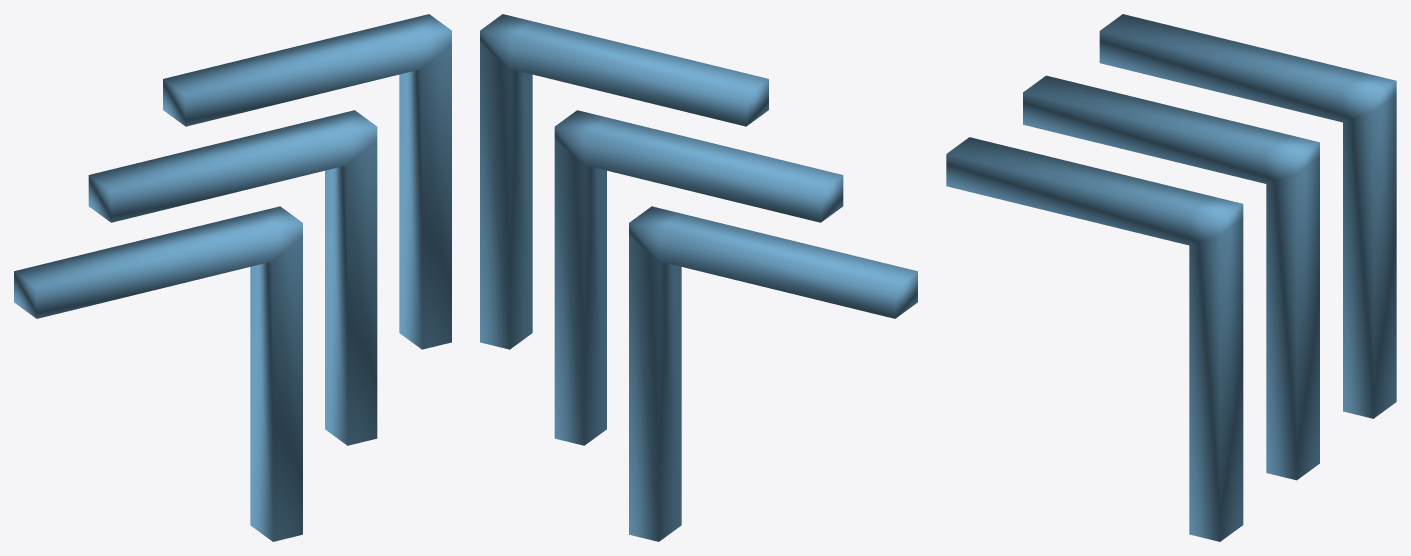
Rendered from speedItem.fbx.
3 views of the same model, side by side, from view 1: azimuth 30°, elevation 25°; view 2: azimuth 150°, elevation 25°; view 3: azimuth 330°, elevation 25° (orthographic). The views are drawn at different scales.
Parts seen in each view (by area): view 1: Cube_001; view 2: Cube_001; view 3: Cube_001.
Boxes of the visible parts, x1=… form: Cube_001: x1=14, y1=14, x2=451, y2=541; Cube_001: x1=480, y1=14, x2=917, y2=541; Cube_001: x1=946, y1=14, x2=1396, y2=541.
Size of the model in its own units: 0.8727 by 0.9396 by 0.0824.
